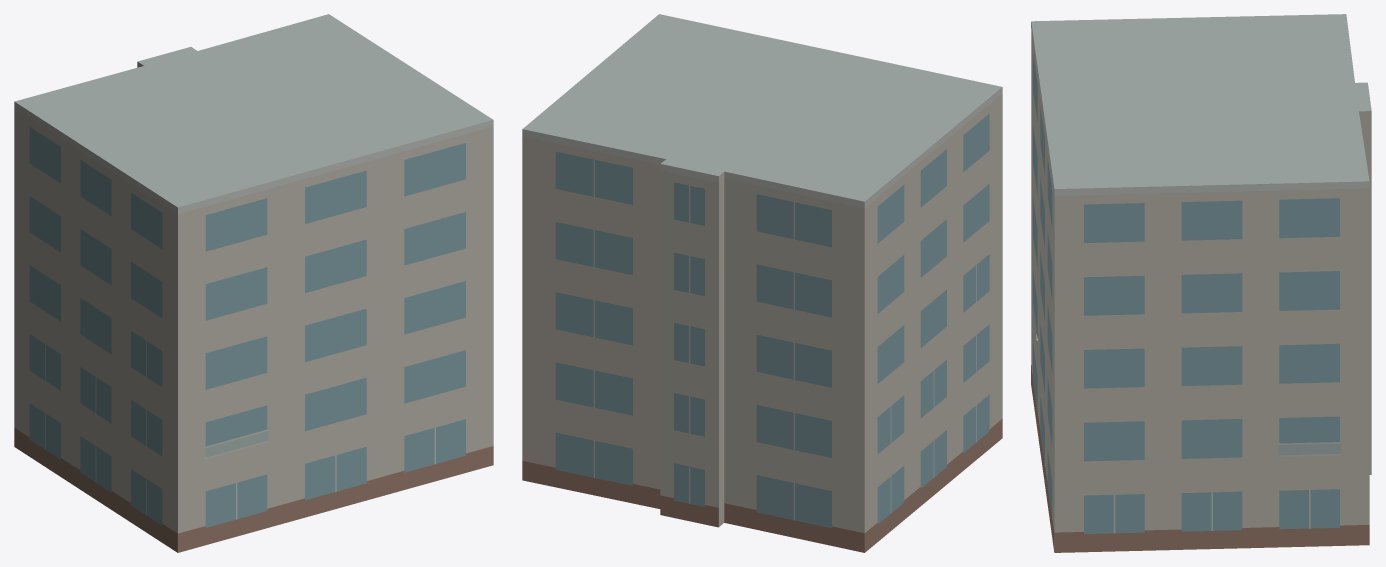
File: survey-upis-32662690.glb
3 views of the same model, side by side, from view 1: azimuth 30°, elevation 25°; view 2: azimuth 150°, elevation 25°; view 3: azimuth 270°, elevation 25° (orthographic). The views are drawn at different scales.
Parts seen in each view (by area): view 1: survey-upis-32662690.tmp; view 2: survey-upis-32662690.tmp; view 3: survey-upis-32662690.tmp.
Part boxes in pixels (x1,y1,x2,y2): survey-upis-32662690.tmp: (14,14,493,552); survey-upis-32662690.tmp: (522,14,1002,552); survey-upis-32662690.tmp: (1031,14,1371,552).
Size of the model in its own units: 13.12 by 12.7 by 10.78.
